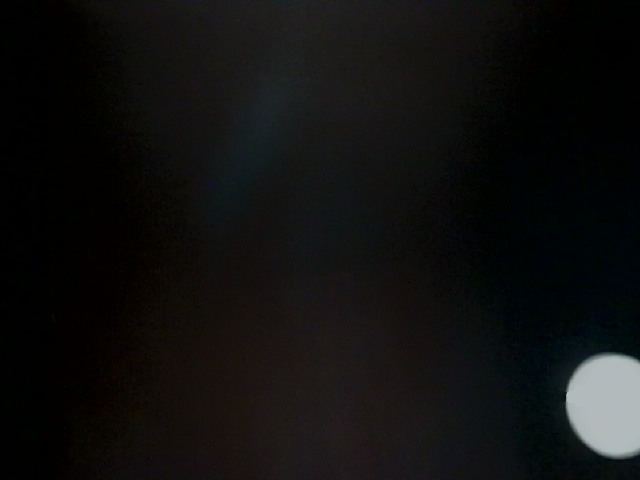KHSLJ: (144, 158, 469, 453)
